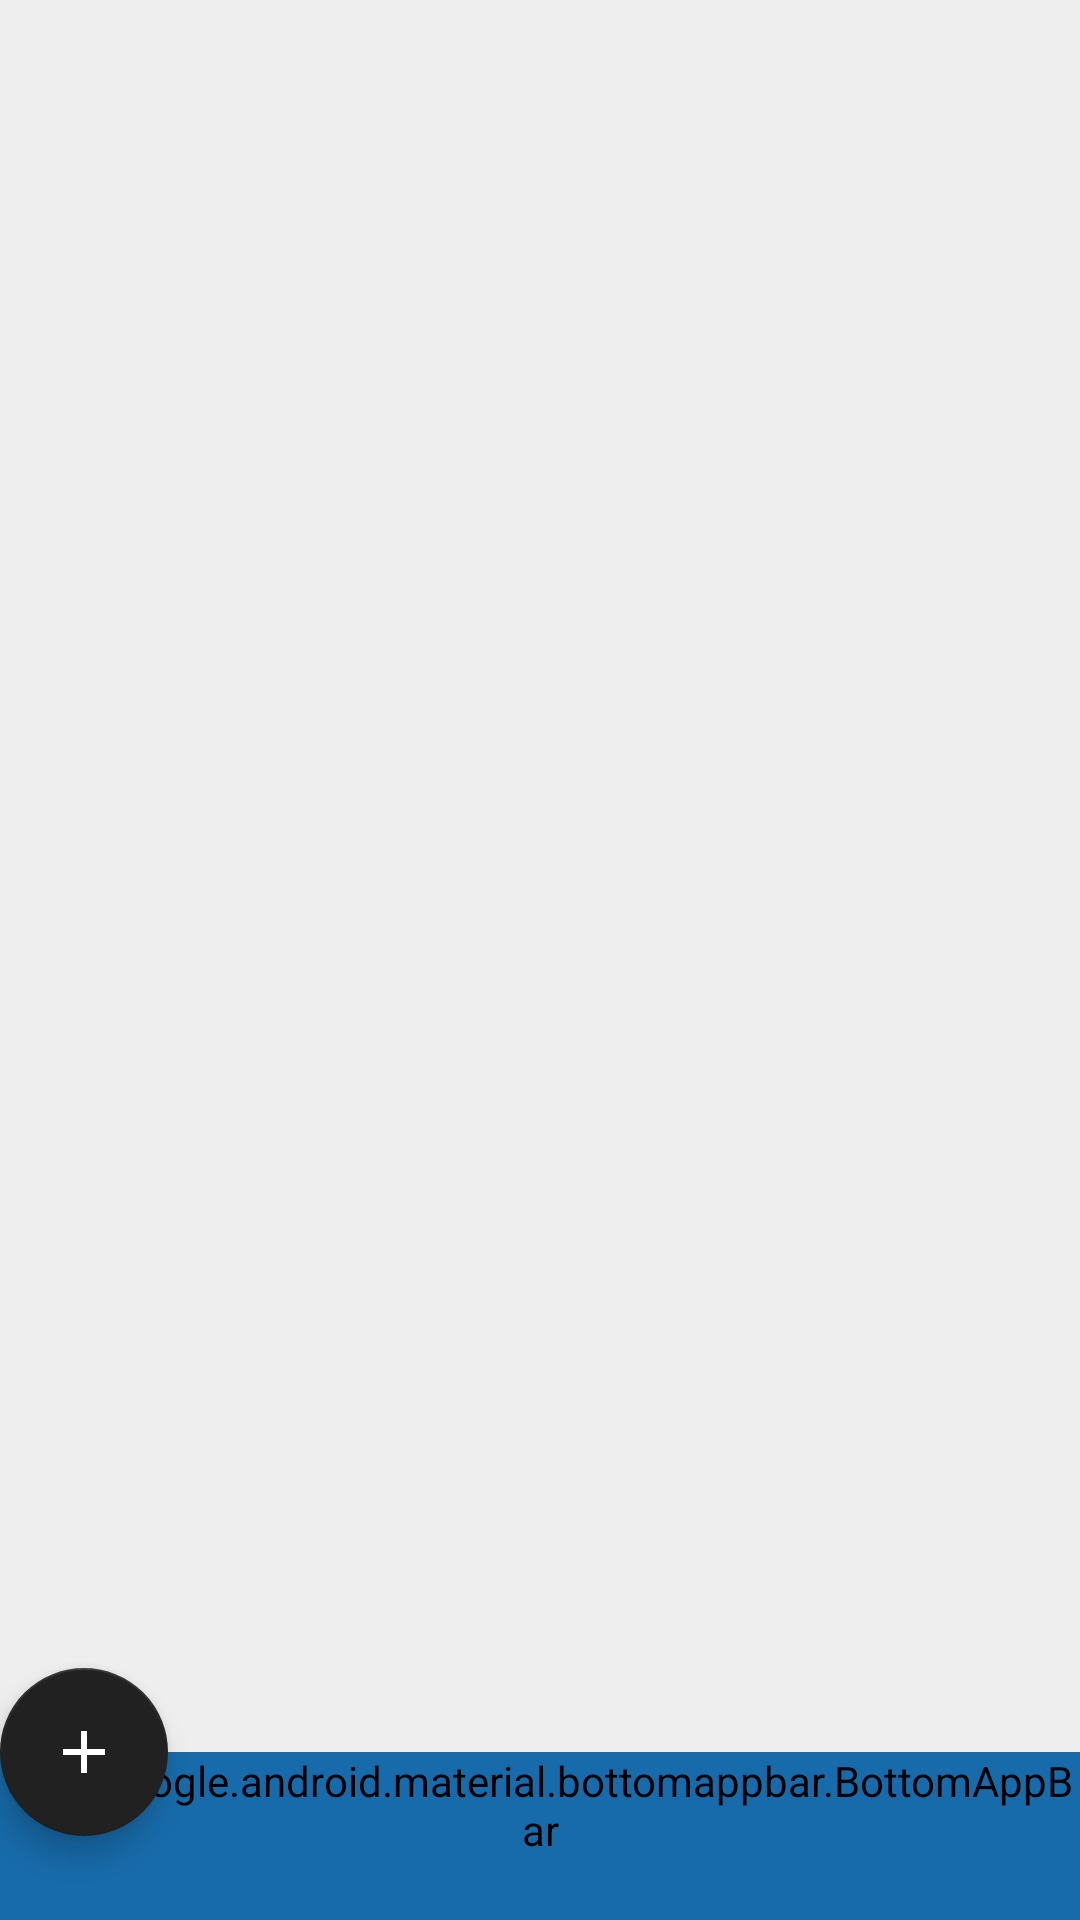

Icon click points for this 1080w x 1920h phone screenshot, format point (x, y):
add: point (84, 1752)
